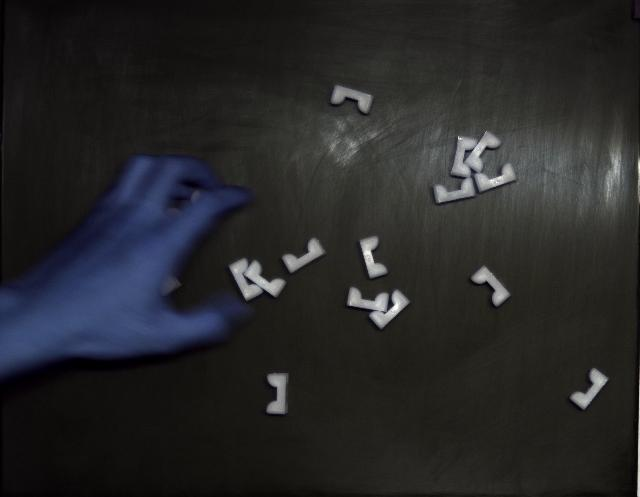third_side: (369, 290, 410, 330), (471, 266, 510, 308), (570, 369, 609, 410), (282, 238, 326, 274), (244, 261, 286, 298), (464, 131, 501, 172), (229, 259, 262, 301), (330, 85, 374, 114), (474, 162, 516, 192), (360, 236, 388, 279), (451, 136, 478, 178), (434, 178, 475, 204), (348, 288, 389, 312), (266, 374, 289, 415)
